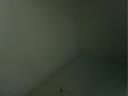window: (6, 2, 123, 94)
